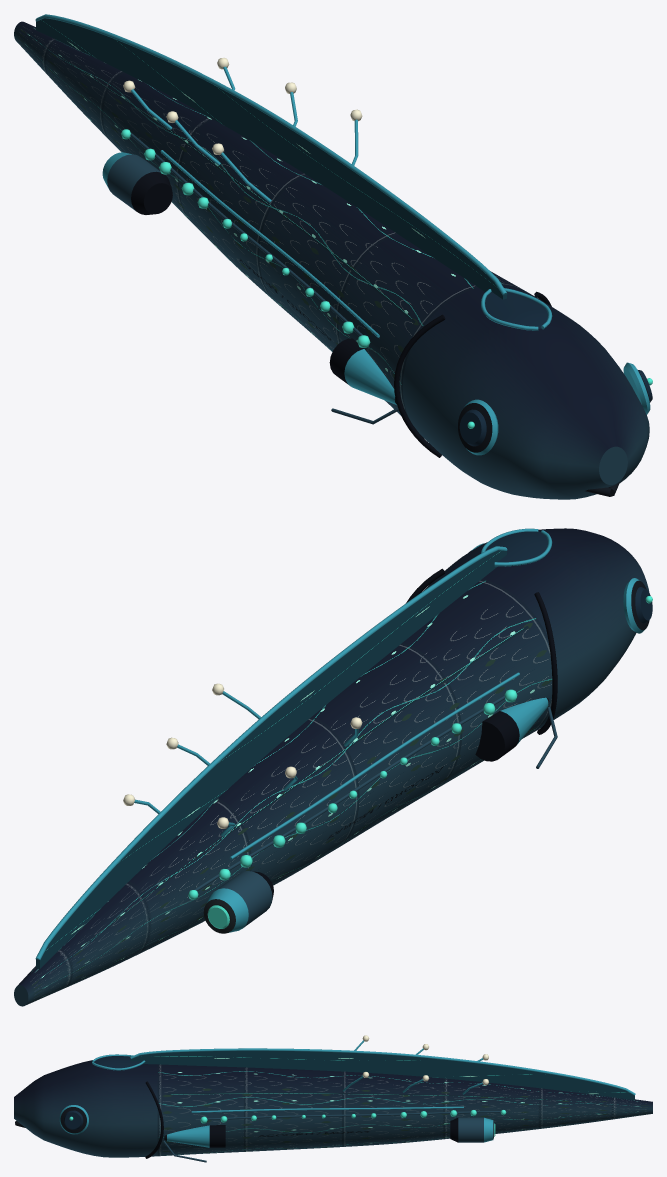
The picture shows the model from 3 angles, top to bottom: view 1: azimuth 30°, elevation 25°; view 2: azimuth 150°, elevation 25°; view 3: azimuth 270°, elevation 25°; orthographic projection. The views are drawn at different scales.
Parts seen in each view (by area): view 1: moray_hull; view 2: moray_hull; view 3: moray_hull.
Part boxes in pixels (<box>): moray_hull: <box>14,14,652,499</box>; moray_hull: <box>14,528,652,1006</box>; moray_hull: <box>14,1035,652,1162</box>.
Size of the model in its own units: 12.17 by 10.8 by 60.
1 material, 1 textured.
